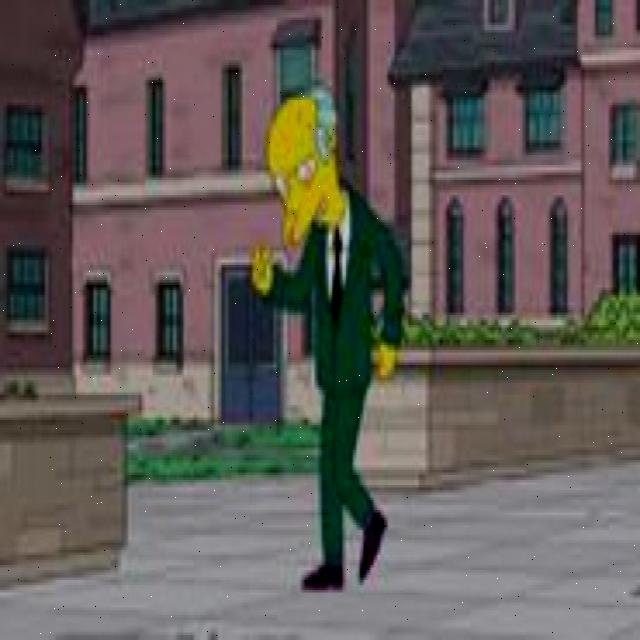Charles Montgomery Burns: (266, 82, 348, 252)
